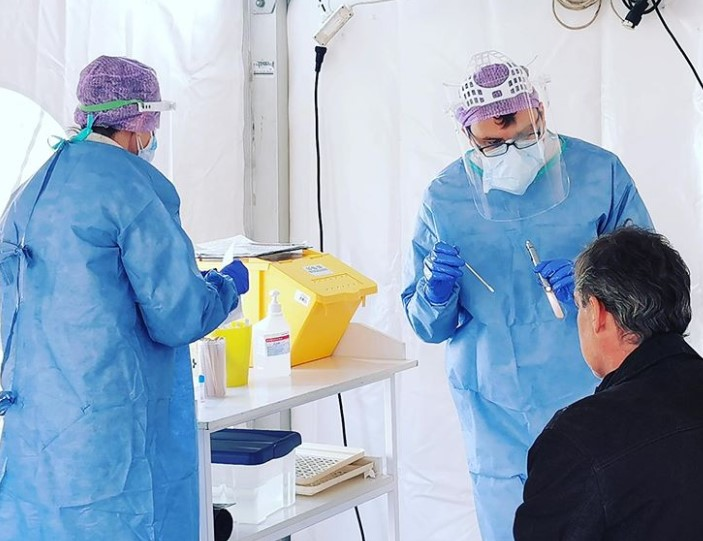face_no_mask: (574, 224, 689, 382)
face_with_mask: (455, 62, 564, 200), (73, 53, 160, 170)
